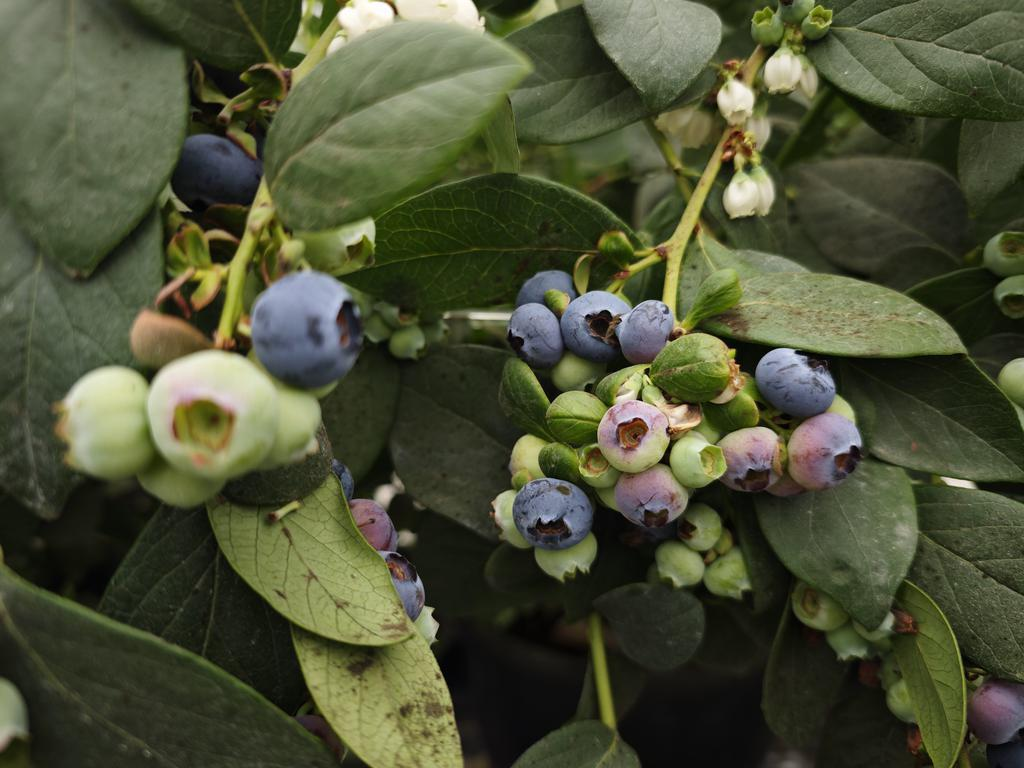RipeBlueBerry: (251, 273, 364, 388), (755, 347, 836, 418), (514, 477, 592, 550), (562, 293, 632, 358), (507, 303, 561, 369)
Semi-RipeBlueBerry: (789, 416, 862, 488), (598, 400, 670, 472), (718, 426, 784, 493), (615, 472, 686, 531)
UnripeBlueBerry: (149, 355, 274, 480)
